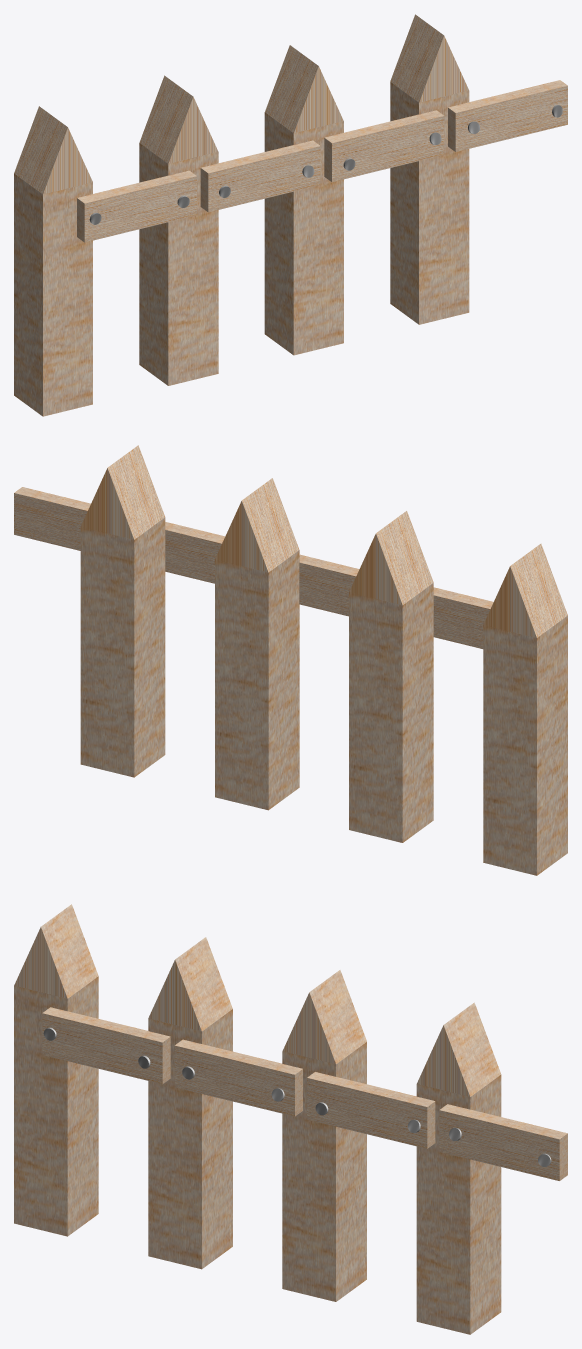
Rendered from vallaExtremo02.fbx.
3 renders of one model, top to bottom at view 1: azimuth 30°, elevation 25°; view 2: azimuth 150°, elevation 25°; view 3: azimuth 330°, elevation 25°, orthographic. The views are drawn at different scales.
Parts seen in each view (by area): view 1: valla, tabla; view 2: valla, tabla; view 3: valla, tabla.
Boxes of the visible parts, left/top/right/bottom form: valla: left=14, top=14, right=469, bottom=416; tabla: left=77, top=80, right=567, bottom=242; valla: left=80, top=445, right=567, bottom=875; tabla: left=14, top=487, right=493, bottom=648; valla: left=14, top=904, right=501, bottom=1334; tabla: left=42, top=1007, right=567, bottom=1180.
Bounding box in the file's own units: 725 × 379 × 97.04.
10 materials, 10 textured.
